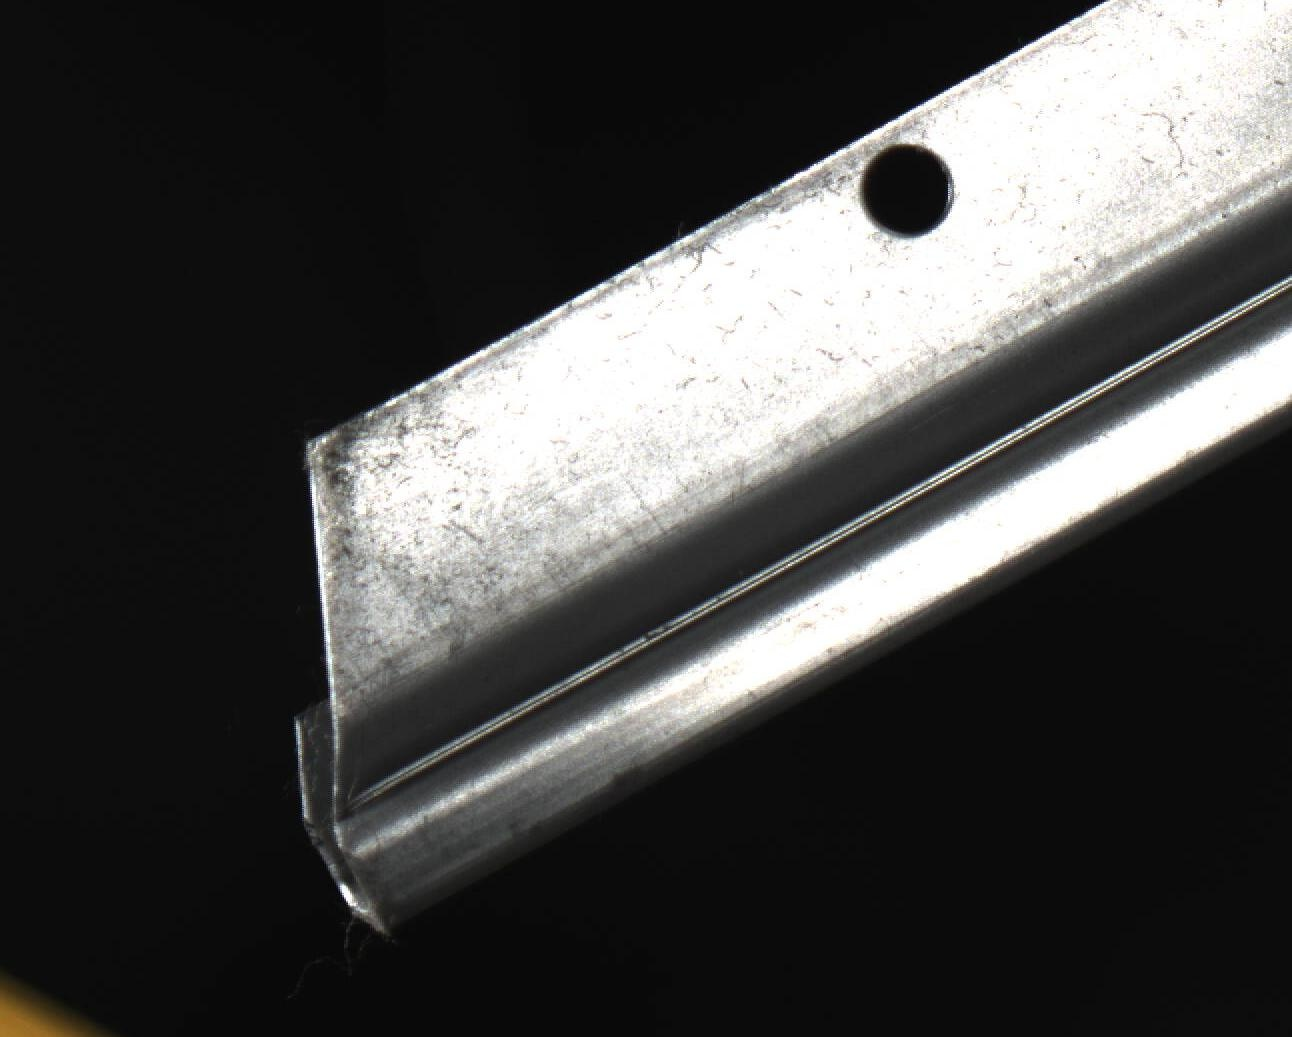cut: (241, 352, 700, 944)
holes: (857, 142, 956, 243)
